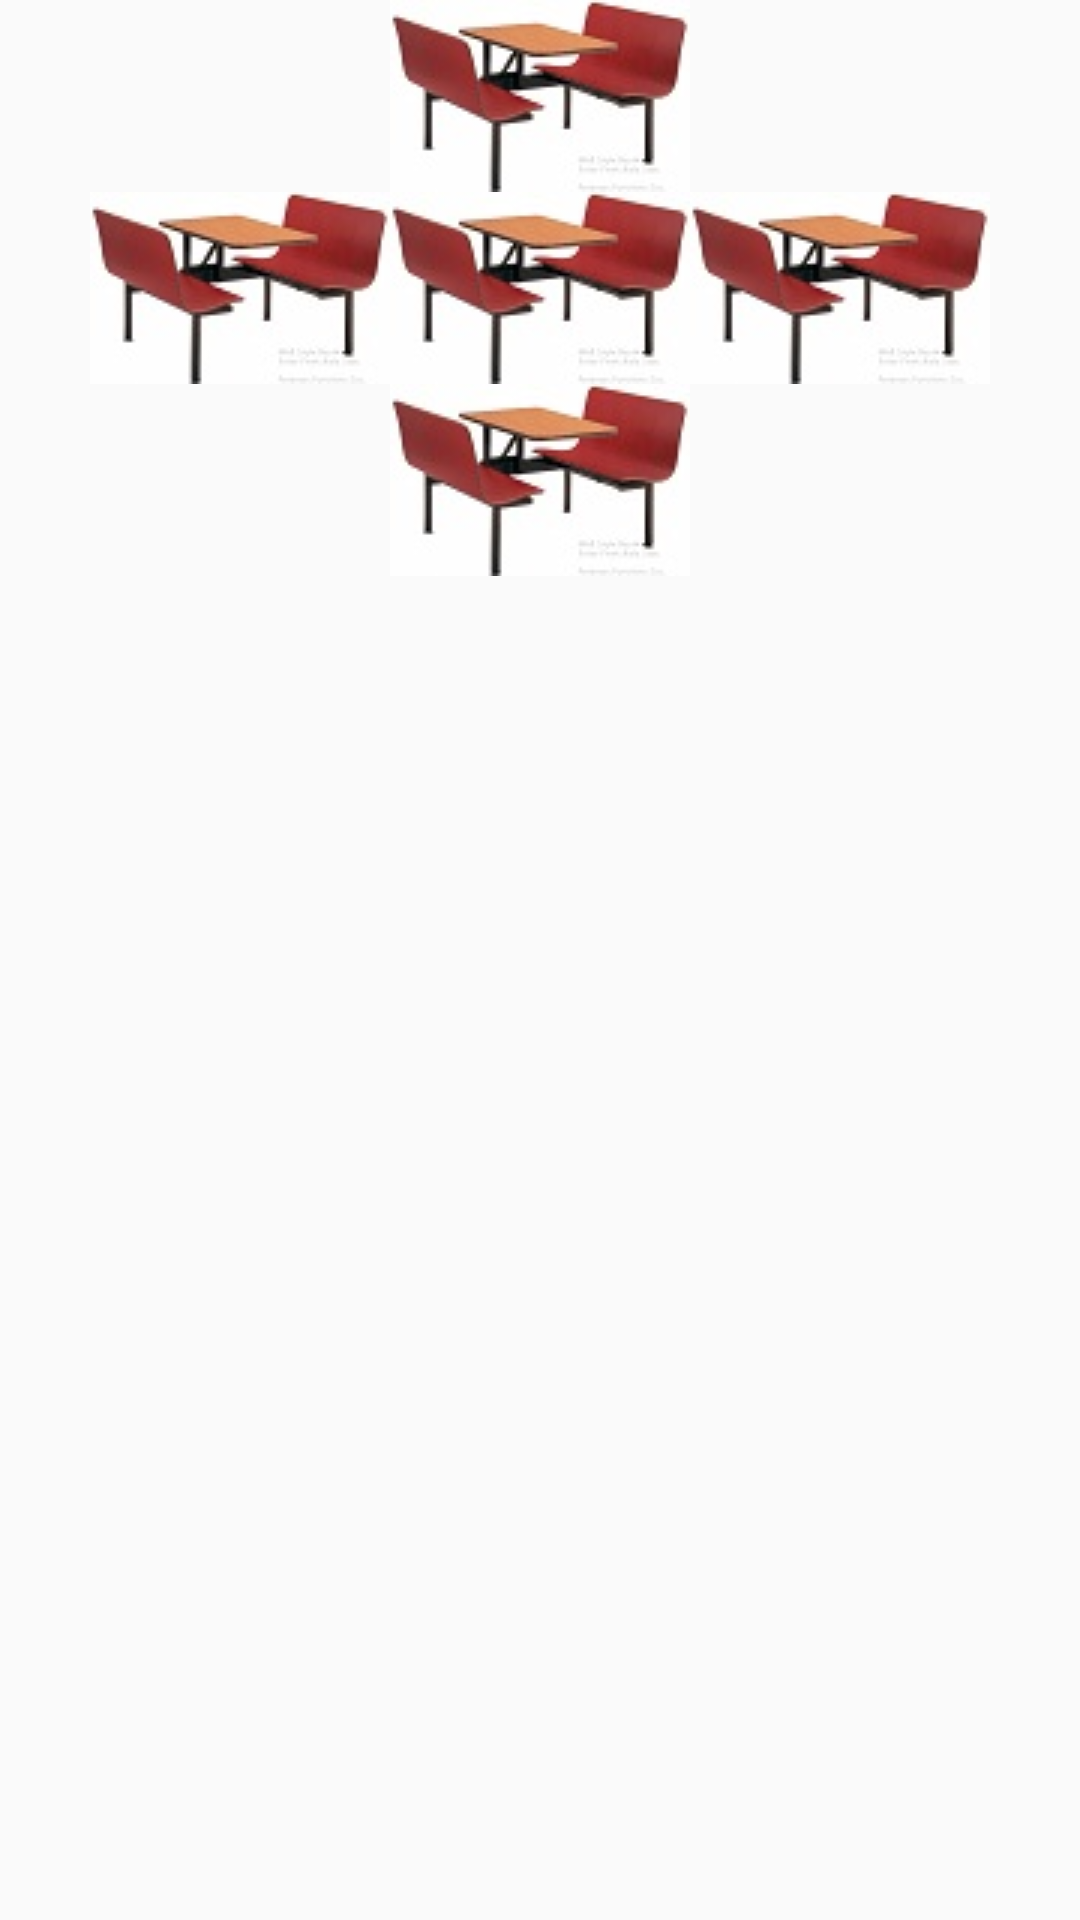

Icons on this 1080 × 1920 Android screen, each with the point to tap as (x,y):
booth: (540,96), (240,288), (540,288), (840,288), (540,480)
